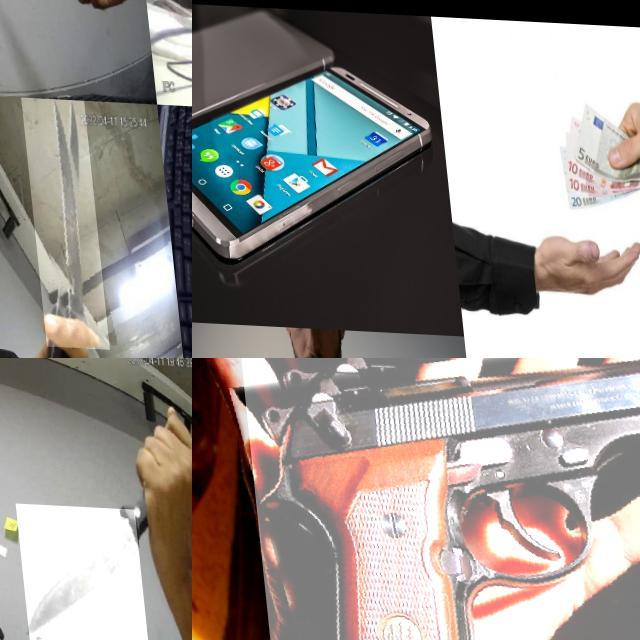-: (14, 95, 98, 348), (12, 498, 142, 640), (0, 0, 99, 57), (0, 511, 14, 547)
gun-knife-thesis - v11 Yolov5 augmented: (233, 358, 640, 640)
